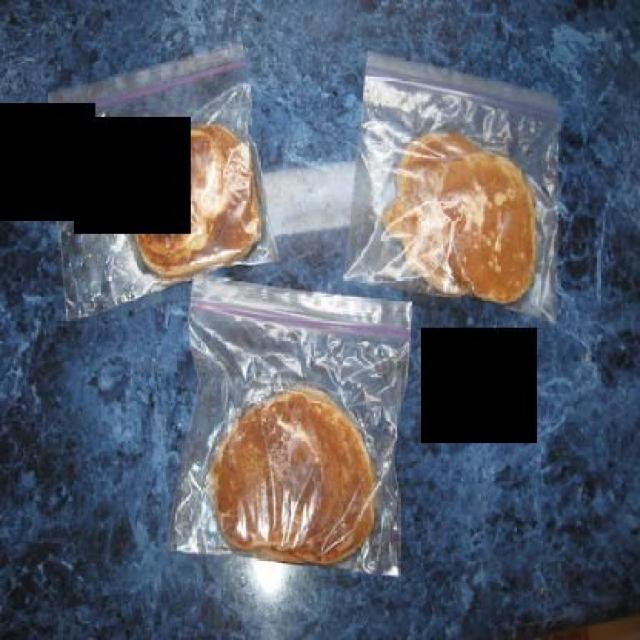plastic bag: (166, 268, 414, 577), (43, 32, 279, 312), (339, 43, 566, 325)
